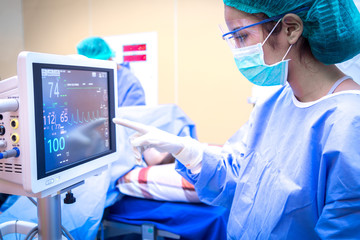Doctor: (212, 1, 333, 175)
monitoring system: (15, 46, 132, 196)
